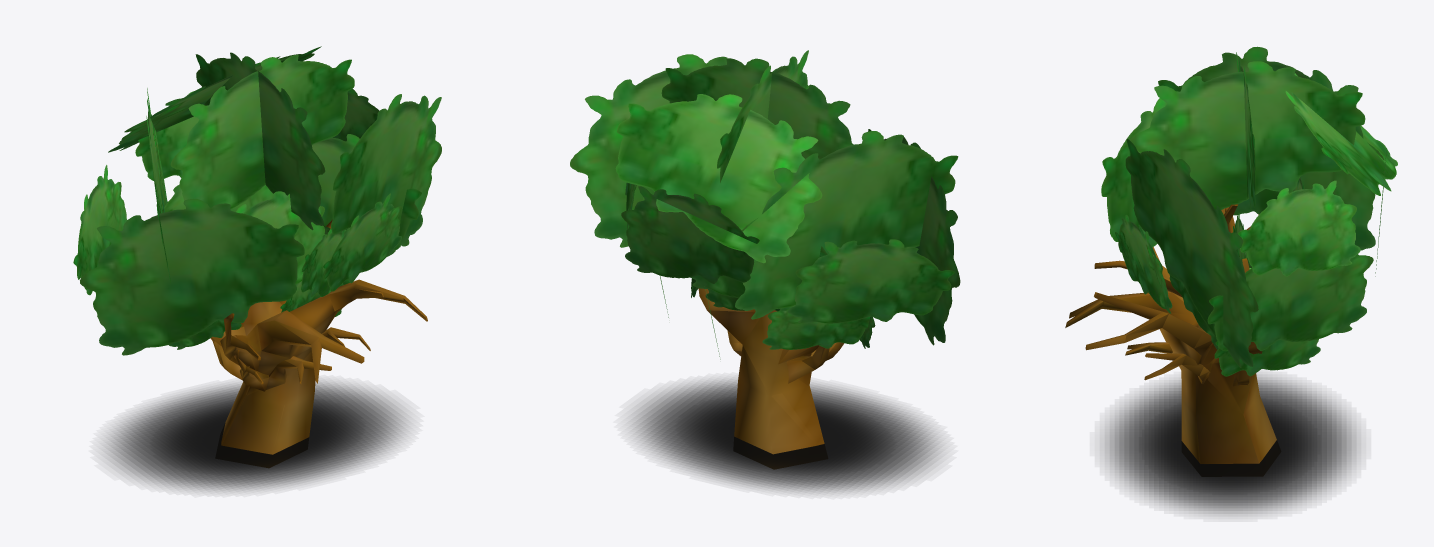
The model's file is gag_tree_stages.glb.
3 views of the same model, side by side, from view 1: azimuth 30°, elevation 25°; view 2: azimuth 150°, elevation 25°; view 3: azimuth 270°, elevation 25° (orthographic). The views are drawn at different scales.
Parts seen in each view (by area): view 1: shadow1 (×2), leaves2 (×2), trunk (×3), leaves5, leaves1 (×2), leaves7, leaves8, leaves12, leaves4, leaves9, leaves10, leaves6 (+3 smaller); view 2: shadow1 (×2), leaves10, leaves3, leaves12 (×2), trunk (×2), leaves6, leaves5, leaves1, leaves2, leaves7, leaves11; view 3: shadow1 (×2), leaves7, trunk (×3), leaves1 (×2), leaves4 (×2), leaves13, leaves3, leaves10, leaves2, leaves8, leaves5.
Part boxes in pixels (bbox=[...]): shadow1 (×2): bbox=[112, 384, 401, 488]; leaves2 (×2): bbox=[80, 198, 304, 355]; trunk (×3): bbox=[211, 219, 427, 467]; leaves5: bbox=[170, 55, 354, 209]; leaves1 (×2): bbox=[301, 94, 441, 297]; leaves7: bbox=[195, 52, 325, 230]; leaves8: bbox=[323, 193, 402, 291]; leaves12: bbox=[73, 165, 127, 295]; leaves4: bbox=[312, 134, 421, 250]; leaves9: bbox=[236, 191, 324, 284]; leaves10: bbox=[108, 46, 321, 152]; leaves6: bbox=[135, 91, 199, 180]; shadow1 (×2): bbox=[638, 382, 933, 490]; leaves10: bbox=[615, 94, 822, 263]; leaves3: bbox=[735, 131, 958, 319]; leaves12 (×2): bbox=[762, 239, 954, 349]; trunk (×2): bbox=[698, 288, 829, 468]; leaves6: bbox=[621, 186, 759, 283]; leaves5: bbox=[661, 58, 853, 159]; leaves1: bbox=[570, 54, 727, 247]; leaves2: bbox=[868, 129, 960, 345]; leaves7: bbox=[717, 50, 808, 182]; leaves11: bbox=[690, 246, 827, 308]; shadow1 (×2): bbox=[1110, 380, 1351, 510]; leaves7: bbox=[1130, 61, 1365, 209]; trunk (×3): bbox=[1065, 204, 1276, 463]; leaves1 (×2): bbox=[1125, 138, 1258, 367]; leaves4 (×2): bbox=[1207, 254, 1373, 376]; leaves13: bbox=[1238, 180, 1360, 276]; leaves3: bbox=[1158, 46, 1384, 250]; leaves10: bbox=[1285, 73, 1397, 195]; leaves2: bbox=[1101, 98, 1225, 247]; leaves8: bbox=[1115, 214, 1172, 313]; leaves5: bbox=[1236, 52, 1255, 209].
Bounding box in the file's own units: 20.43 × 18.56 × 14.41.
4 materials, 4 textured.
